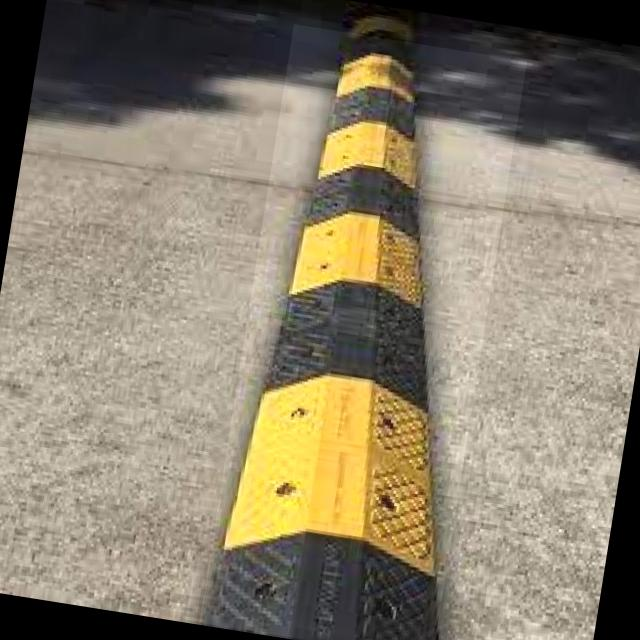bump: (199, 24, 526, 640)
